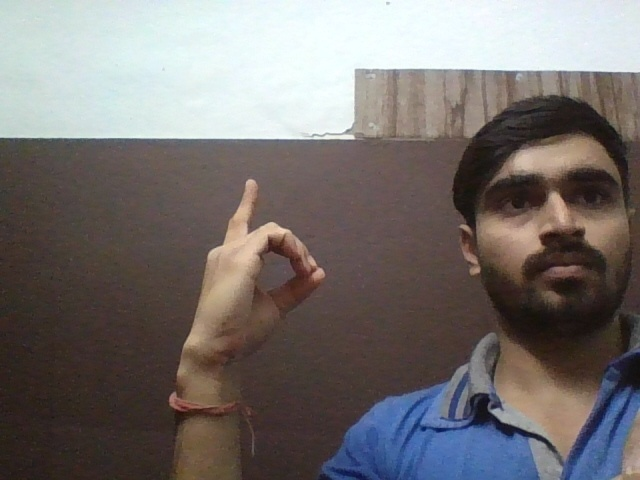D: (189, 171, 340, 343)
